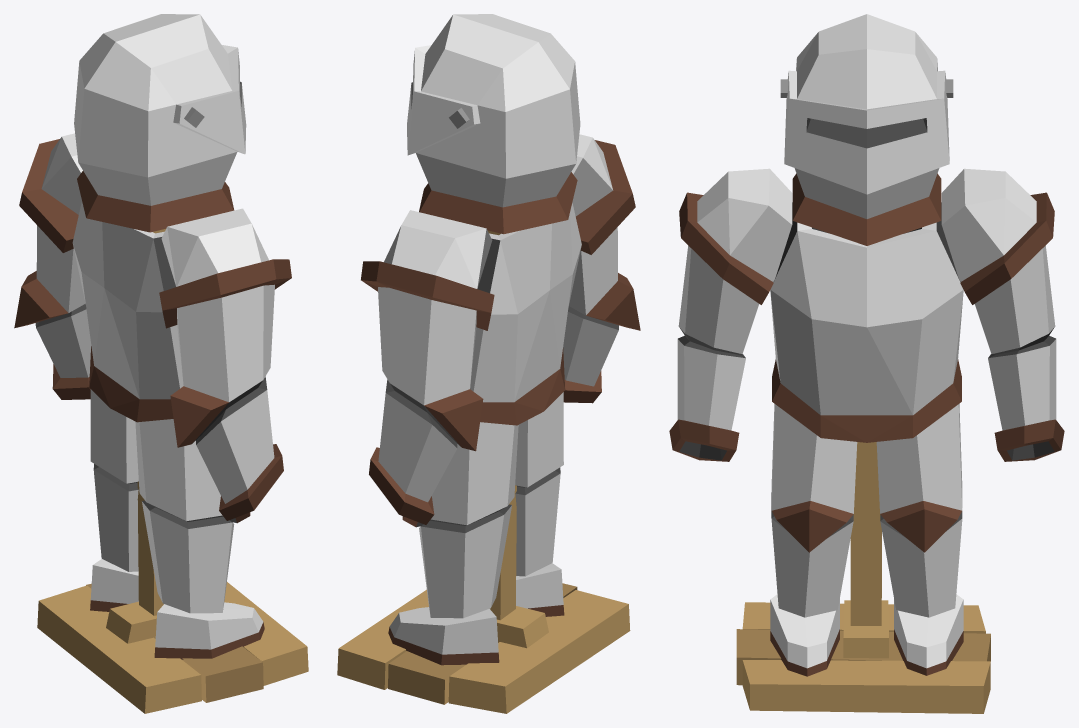
The model's file is ArmorStand.glb.
The picture shows the model from 3 angles, left to right: view 1: azimuth 30°, elevation 25°; view 2: azimuth 150°, elevation 25°; view 3: azimuth 270°, elevation 25°; orthographic projection.
Parts seen in each view (by area): view 1: Armor_Stand.007; view 2: Armor_Stand.007; view 3: Armor_Stand.007.
Part boxes in pixels (x1,y1,x2,y2): Armor_Stand.007: [14, 14, 308, 713]; Armor_Stand.007: [337, 14, 640, 713]; Armor_Stand.007: [669, 14, 1064, 713].
Size of the model in its own units: 0.1567 by 0.5237 by 0.2947.
1 material, 1 textured.
